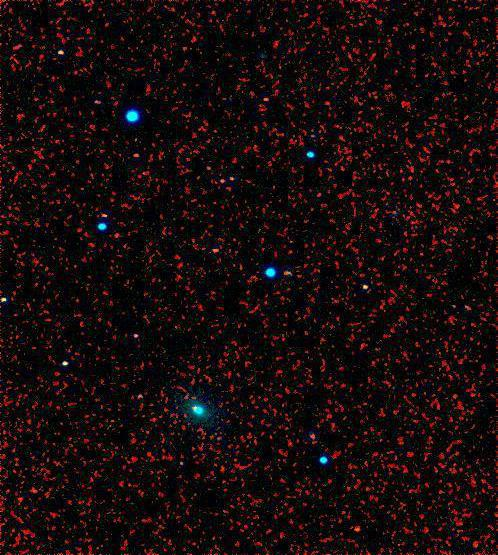star: (343, 515, 373, 545)
